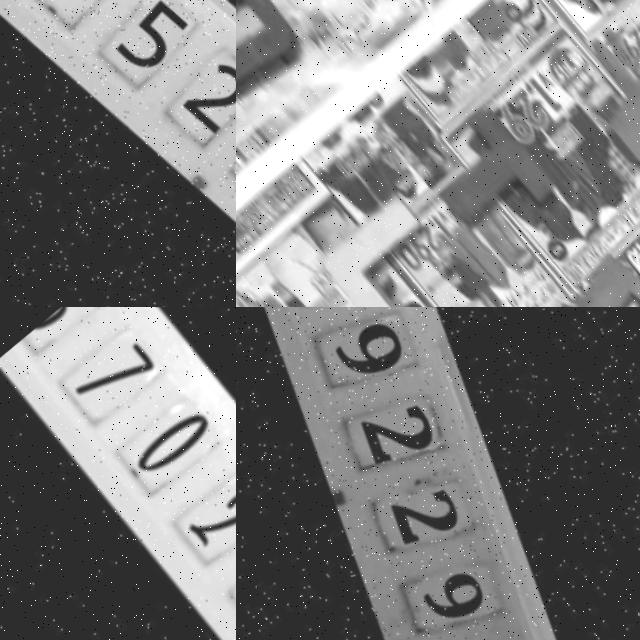0: (94, 355, 236, 513), (419, 606, 546, 640)
2: (330, 352, 470, 497), (358, 438, 497, 580), (153, 432, 236, 585), (155, 24, 236, 148)
5: (91, 0, 210, 89)
6: (19, 307, 129, 372)
7: (38, 307, 189, 448), (21, 0, 144, 27)
9: (388, 520, 520, 640), (298, 307, 439, 415)
L: (309, 177, 473, 307)
O: (236, 0, 310, 108)
P: (543, 245, 640, 307)
T: (412, 94, 556, 244)
V: (589, 41, 640, 186)
